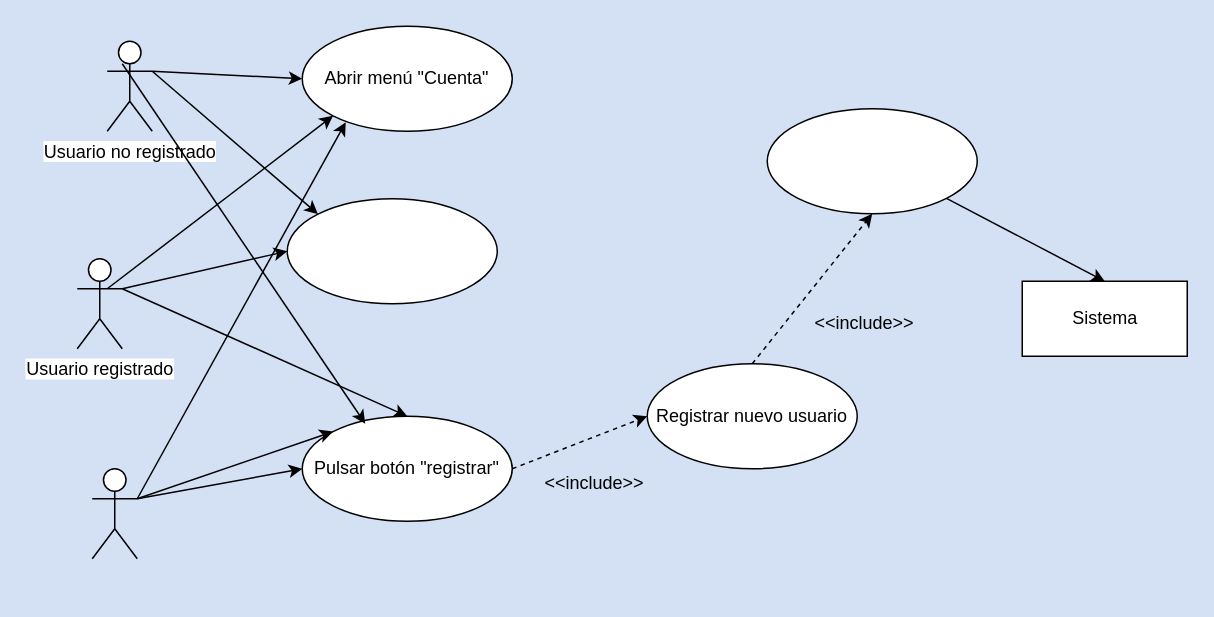
The diagram is 1214 pixels wide and 617 high, and some of its shapes have lost their labels. The box of each missing label's shape, as (x1, y1, x2, y2) in pixels:
Confirmación del sistema: (766, 107, 977, 214)
Rellenar formulario de registro: (286, 197, 497, 304)
Usuario administrador: (91, 467, 137, 559)
